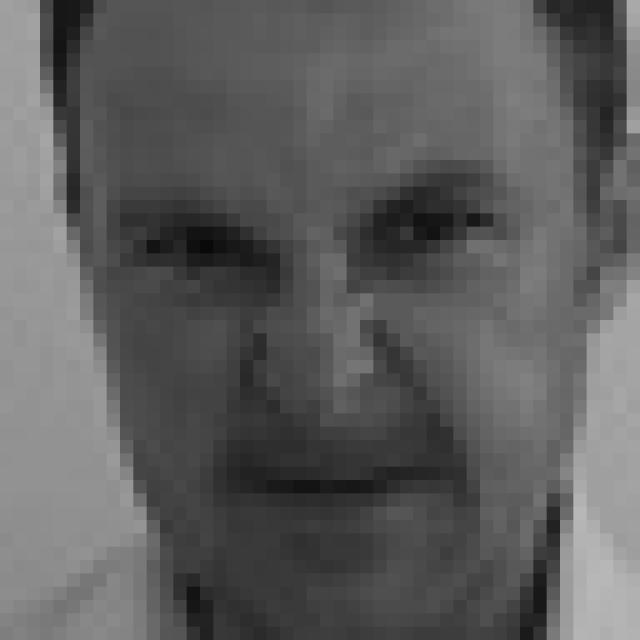disgust: (116, 156, 502, 563)
